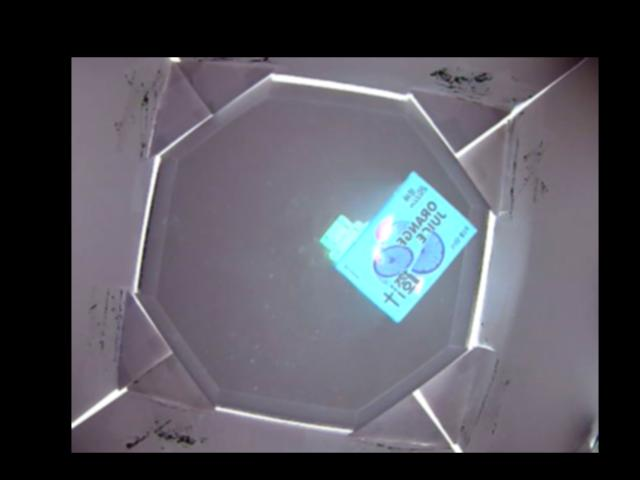Bottle: (318, 169, 479, 325)
